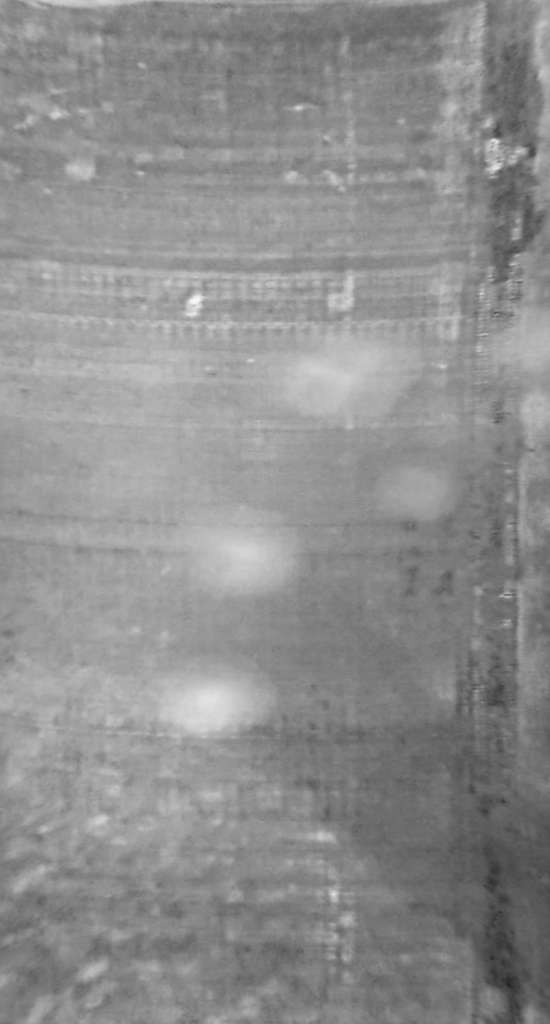splice: (458, 1, 549, 1024)
